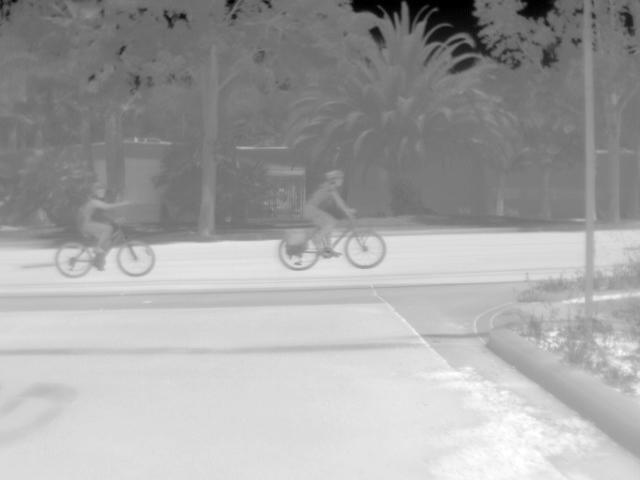person: (300, 170, 358, 258), (74, 184, 132, 269)
